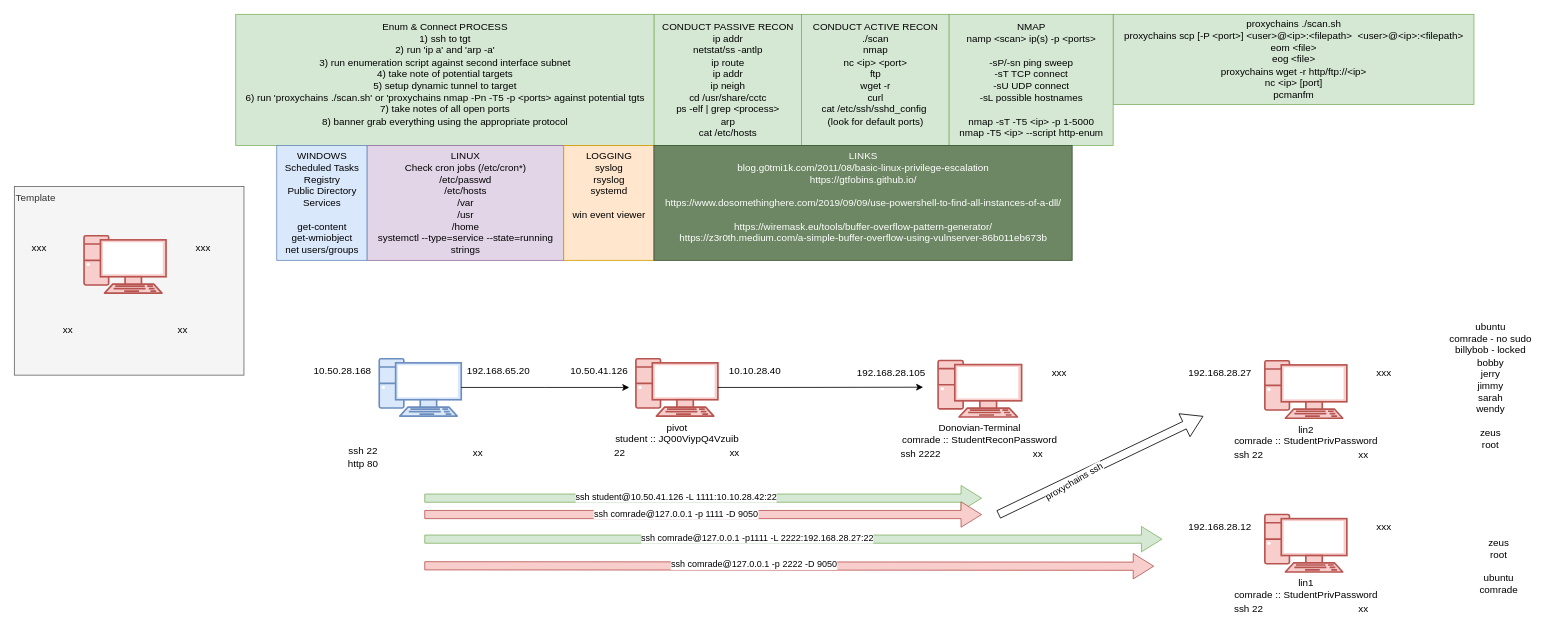
The diagram is 1554 pixels wide and 636 high, and some of its shapes have lost their labels. Each missing label, with the centre of its shape:
"box_name user :: pass" goes at point 124,264.
"lin-ops student :: password" goes at point 420,387.
